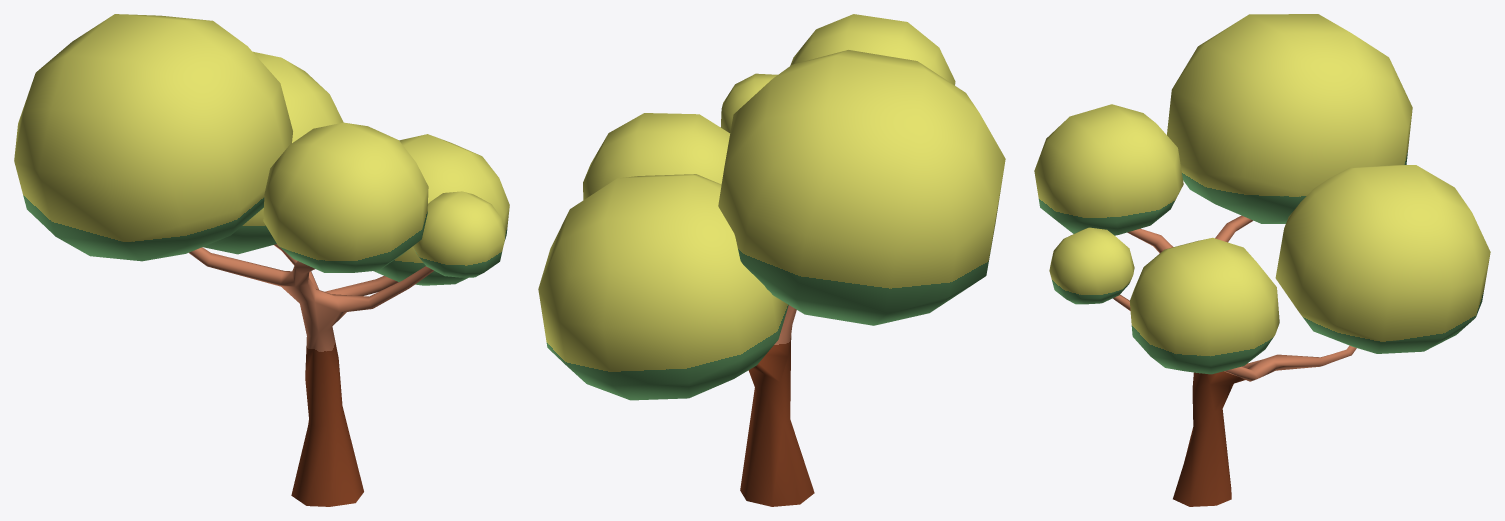
Rendered from tree_round2.obj.
3 views of the same model, side by side, from view 1: azimuth 30°, elevation 25°; view 2: azimuth 150°, elevation 25°; view 3: azimuth 270°, elevation 25° (orthographic). The views are drawn at different scales.
Visible parts, largest first — view 1: Tree.029_Circle.001; view 2: Tree.029_Circle.001; view 3: Tree.029_Circle.001.
Part boxes in pixels (<box>): Tree.029_Circle.001: <box>14,14,509,506</box>; Tree.029_Circle.001: <box>538,14,1005,506</box>; Tree.029_Circle.001: <box>1034,14,1490,506</box>.
Bounding box in the file's own units: 6.18 × 6.56 × 6.51.
Materials: 1 (1 with a texture image).
